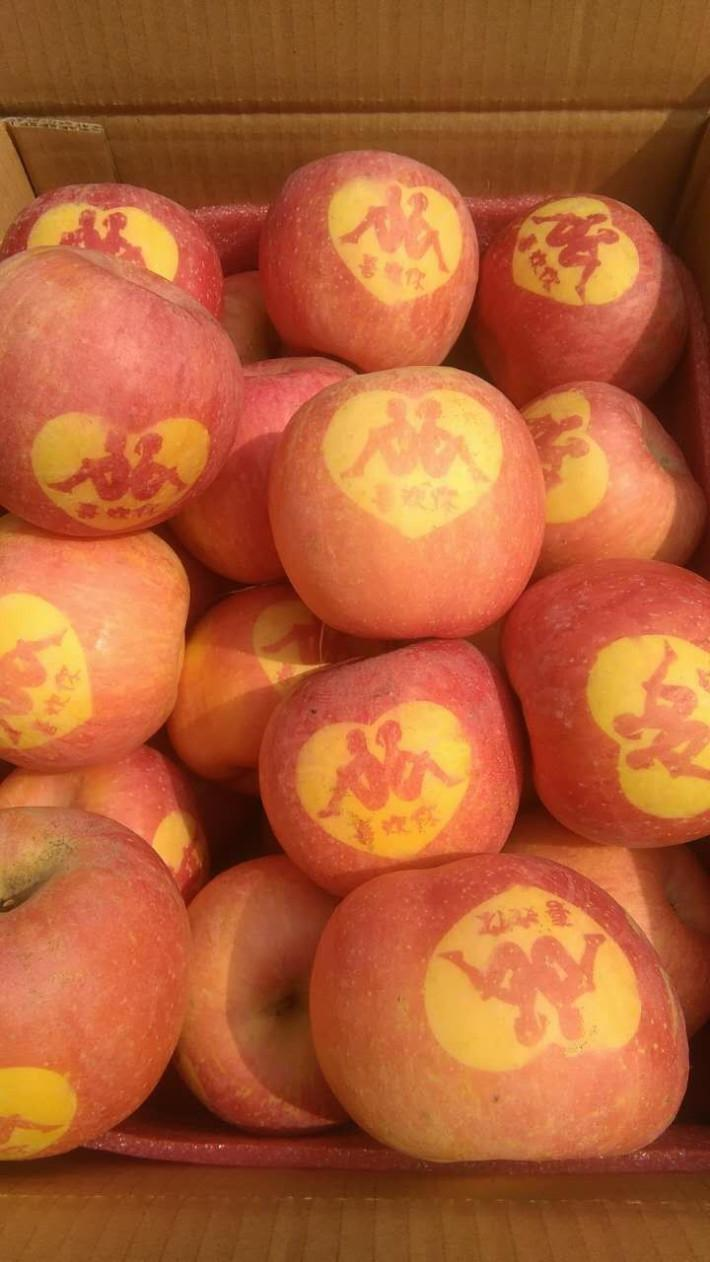apple: (310, 857, 683, 1165), (1, 242, 246, 546), (278, 366, 546, 633), (1, 800, 193, 1160), (254, 631, 522, 885), (508, 559, 710, 844), (256, 150, 479, 372), (174, 857, 350, 1138), (473, 188, 703, 402), (1, 523, 193, 776), (521, 380, 707, 575), (11, 186, 230, 324)
